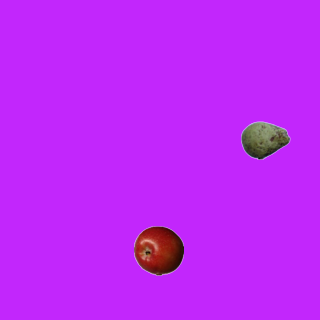Apple Braeburn: (133, 225, 183, 275)
Pear Stone: (240, 115, 290, 165)
